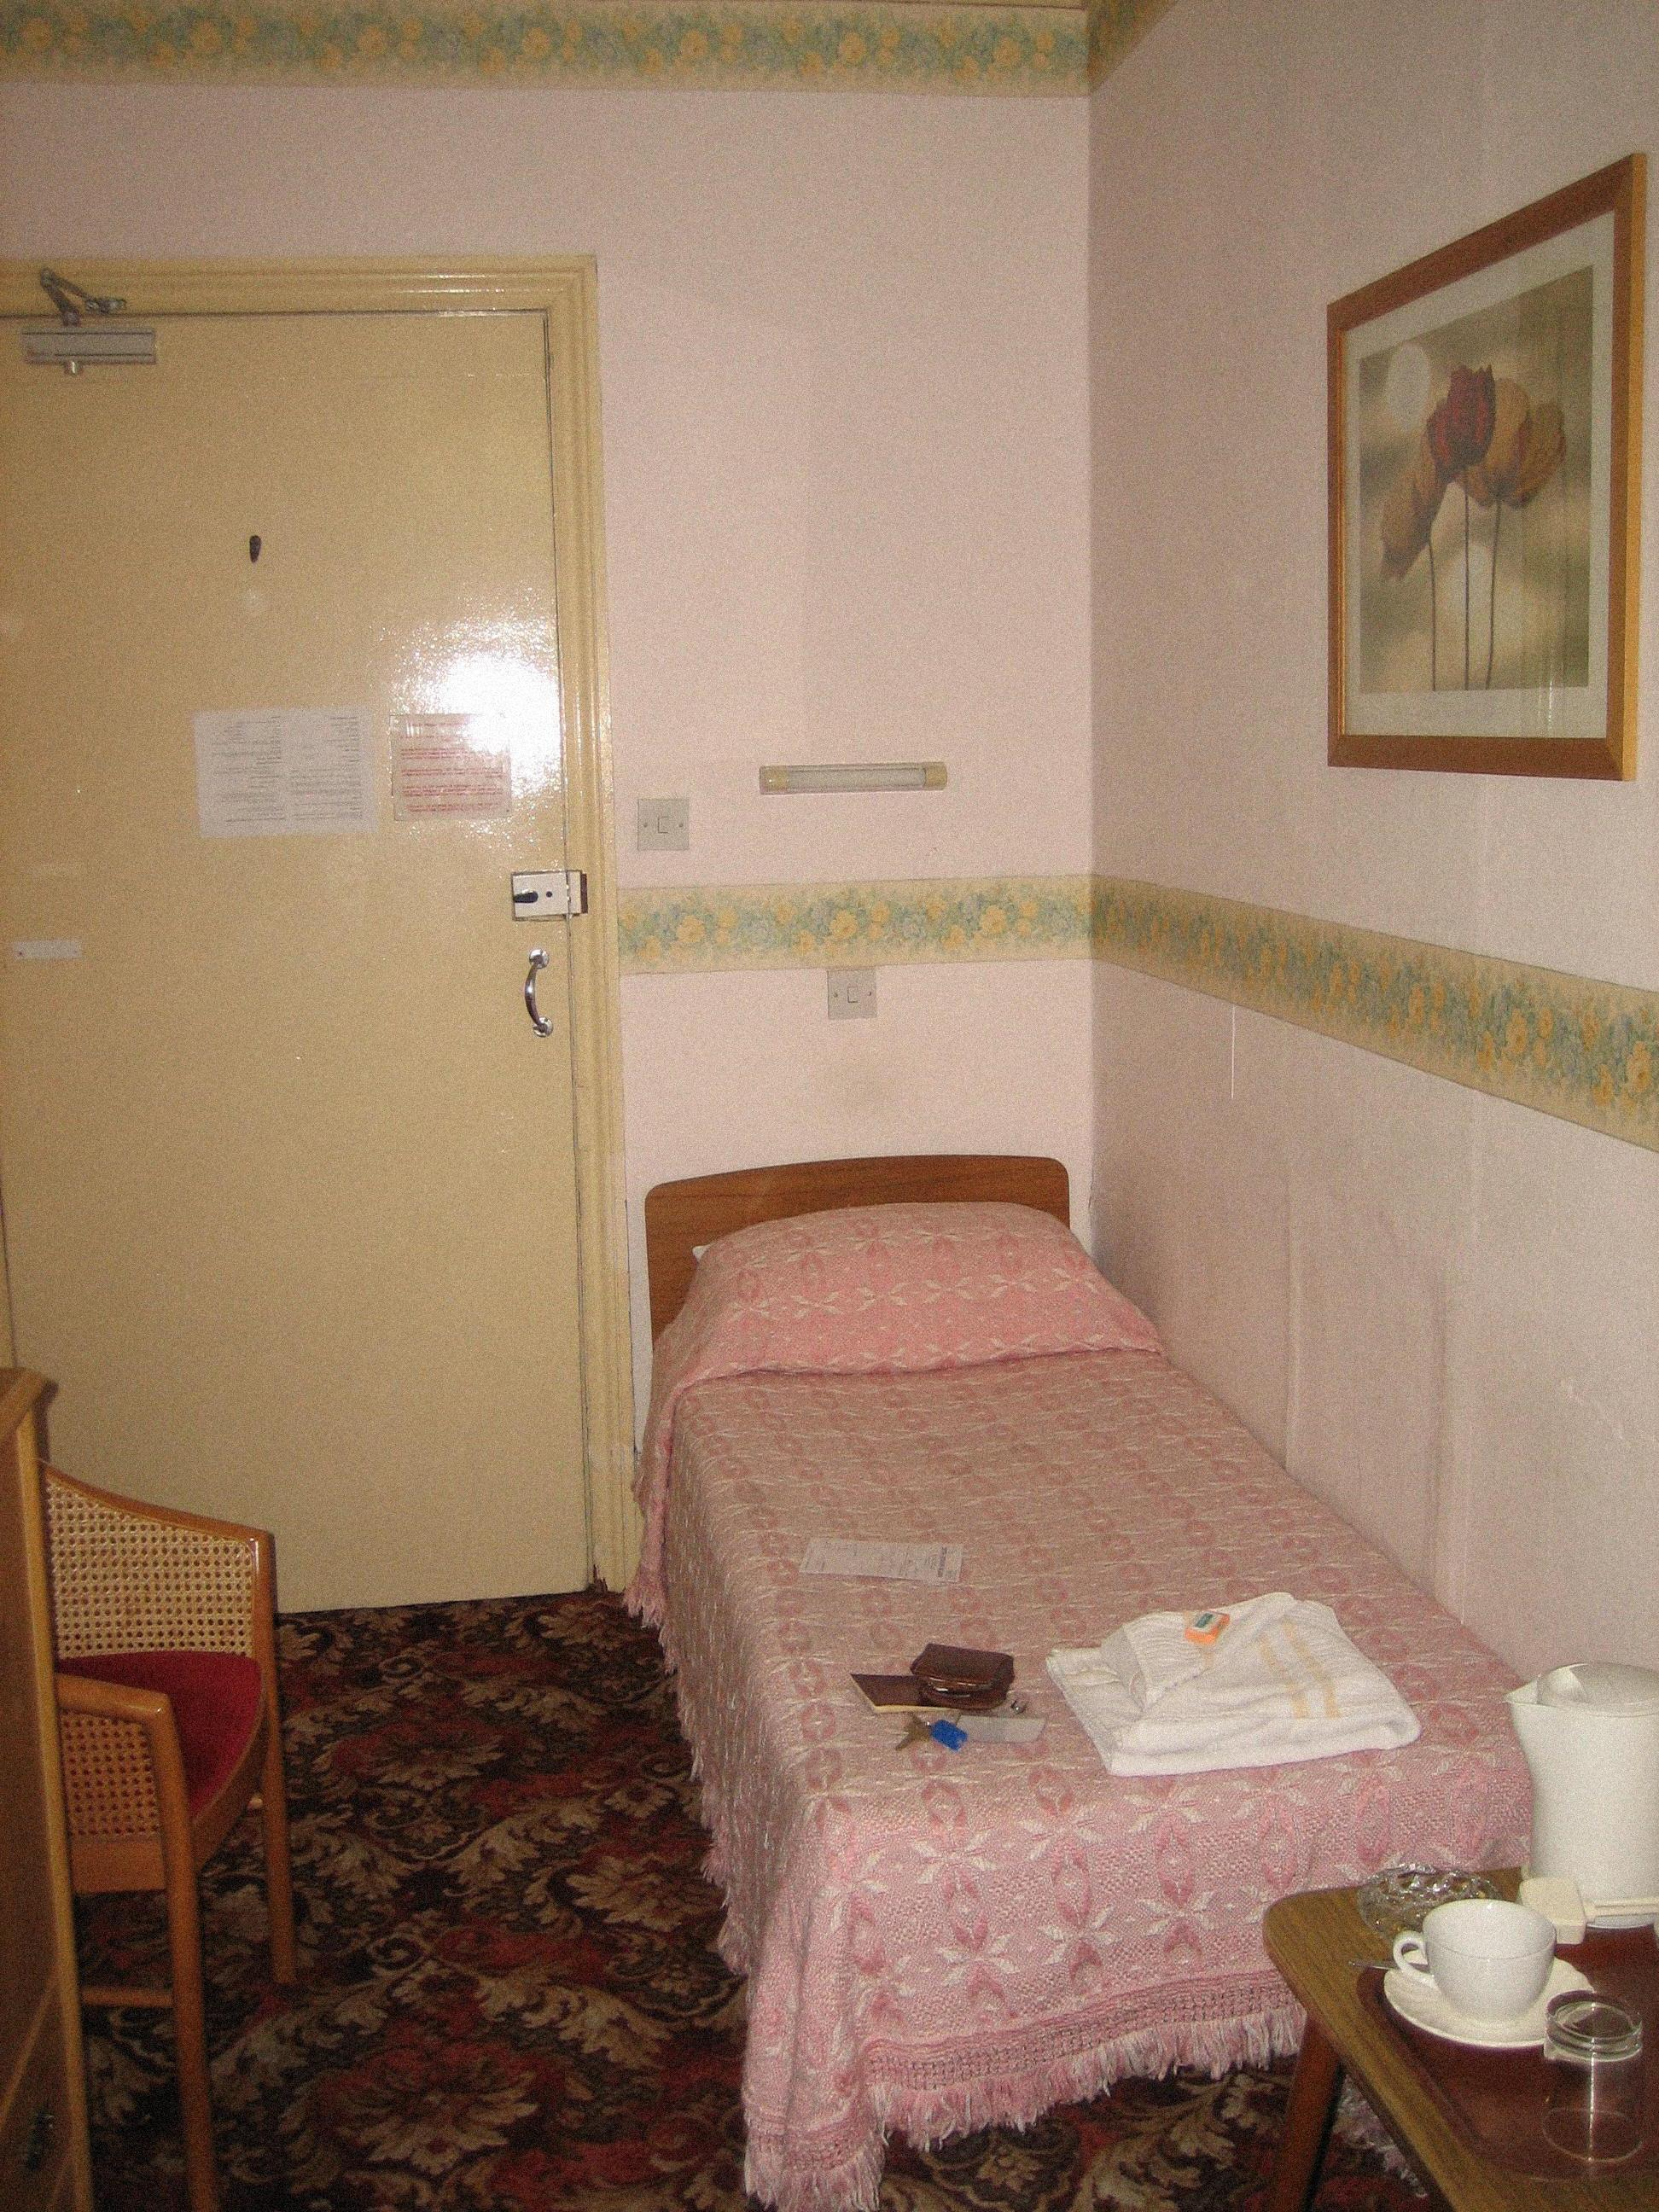Puerta: (24, 300, 565, 1618)
